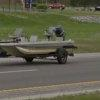Boat: (1, 27, 80, 67)
